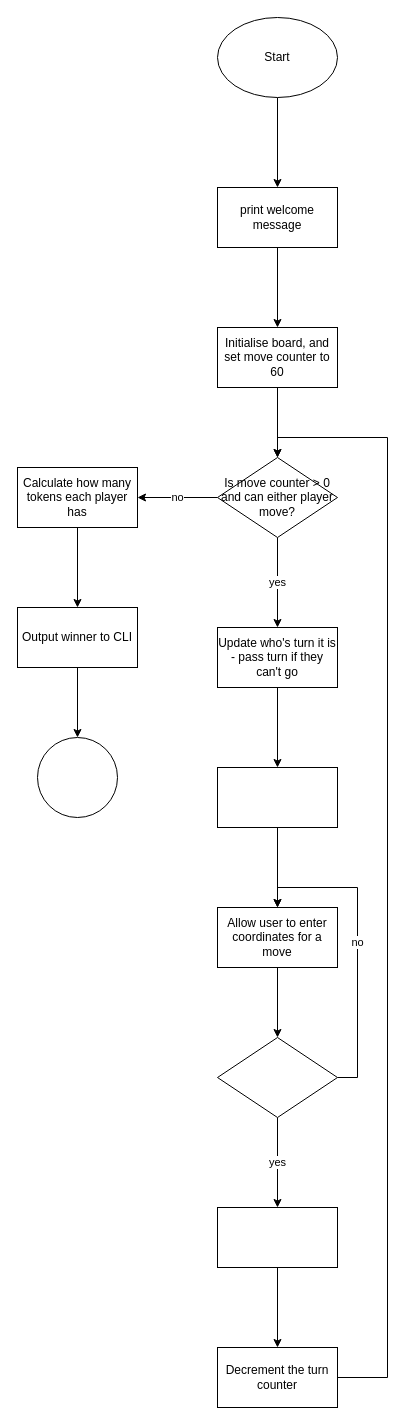
The diagram is 413 pixels wide and 1425 high, and some of its shapes have lost their labels. The shapes that lost their labels are listed below. From the top down, each one's centre as x and y in pixels, then its label:
At point 77,777: "End".
At point 277,797: "Display board, current player and turns remaining to CLI".
At point 277,1077: "Is the move legal?".
At point 277,1237: "Place the token and update the board using outflanked function".
